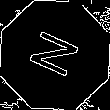N_SE: (24, 26, 86, 84)
